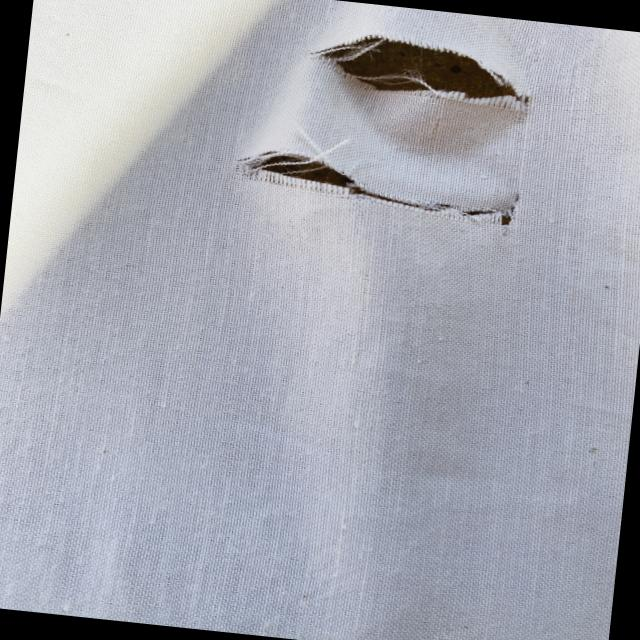hole: (230, 146, 526, 232), (303, 24, 539, 114)
